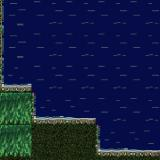Interaction: (23, 108, 90, 130), (0, 0, 17, 80), (89, 143, 160, 160), (0, 80, 39, 107), (90, 108, 104, 144)
Slow: (102, 0, 160, 149), (36, 0, 102, 114), (5, 0, 36, 84), (0, 92, 32, 156)
